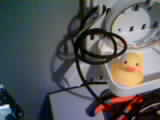duck: (106, 48, 140, 89)
